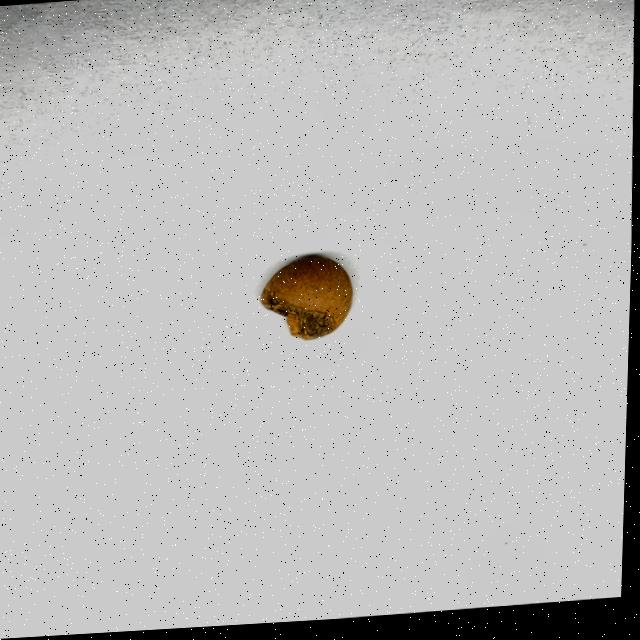Insect damage: (260, 257, 355, 348)
